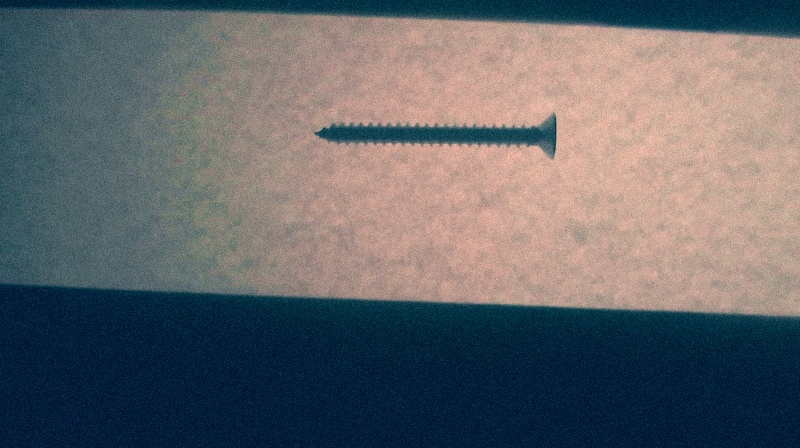S002: (311, 108, 560, 162)
